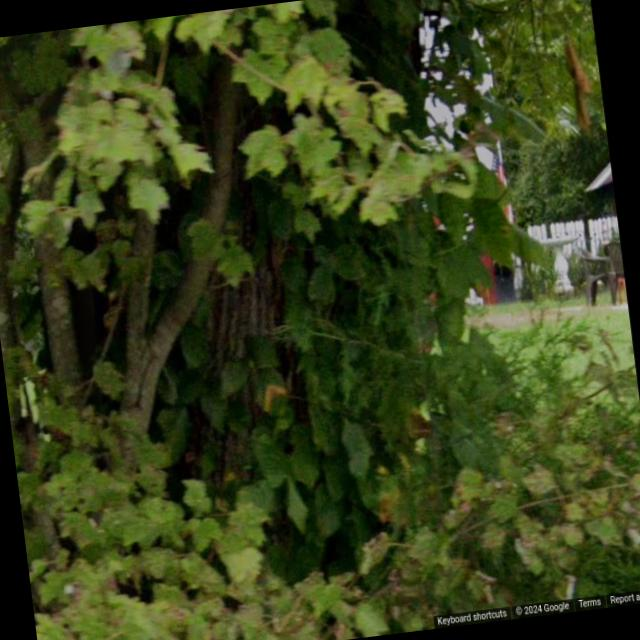House: (412, 2, 536, 308)
